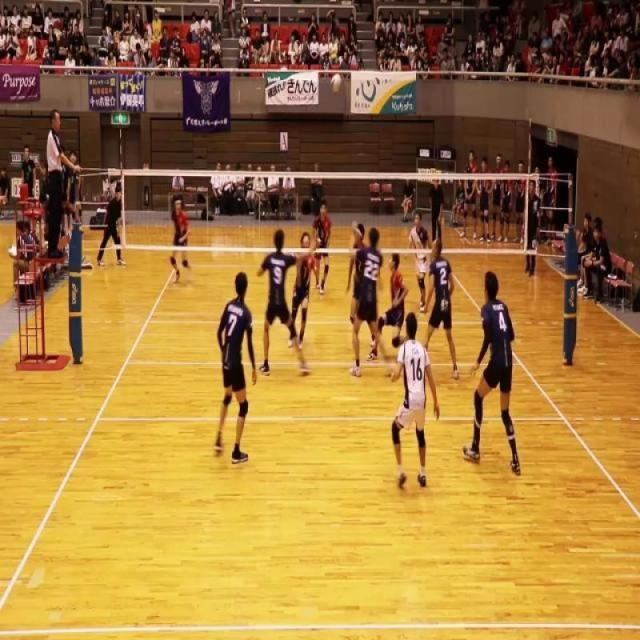volleyball: (331, 72, 342, 94)
